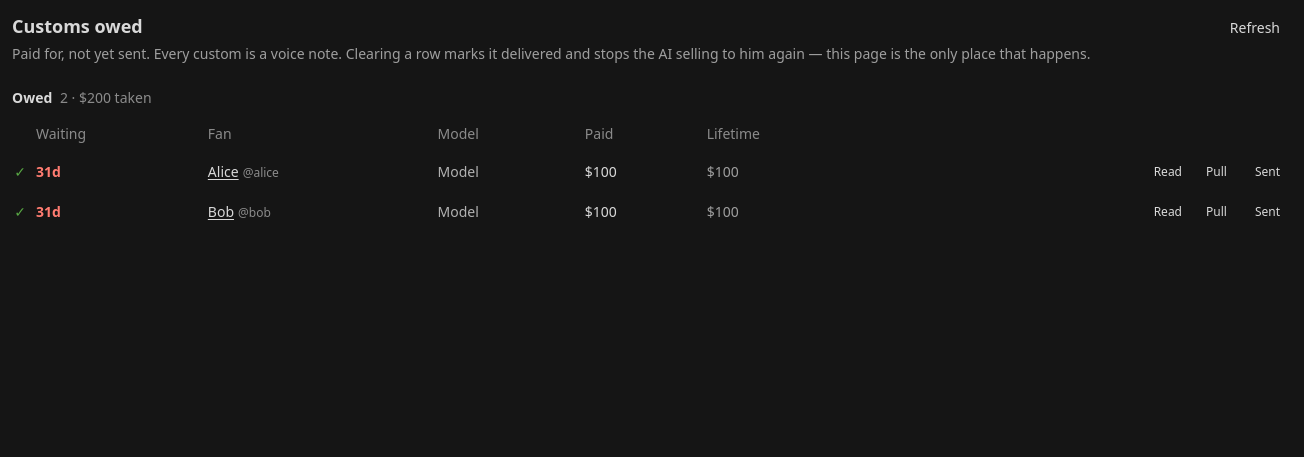
Scenario: CustomsTab pane › Pull A, Read B during the rescrape: A does not reopen over B, no brief for A
Click the 1st button titled "Re-fetch this chat from OnlyFans, then re-read it".
click(1216, 172)  # box [1198,160,1235,184]
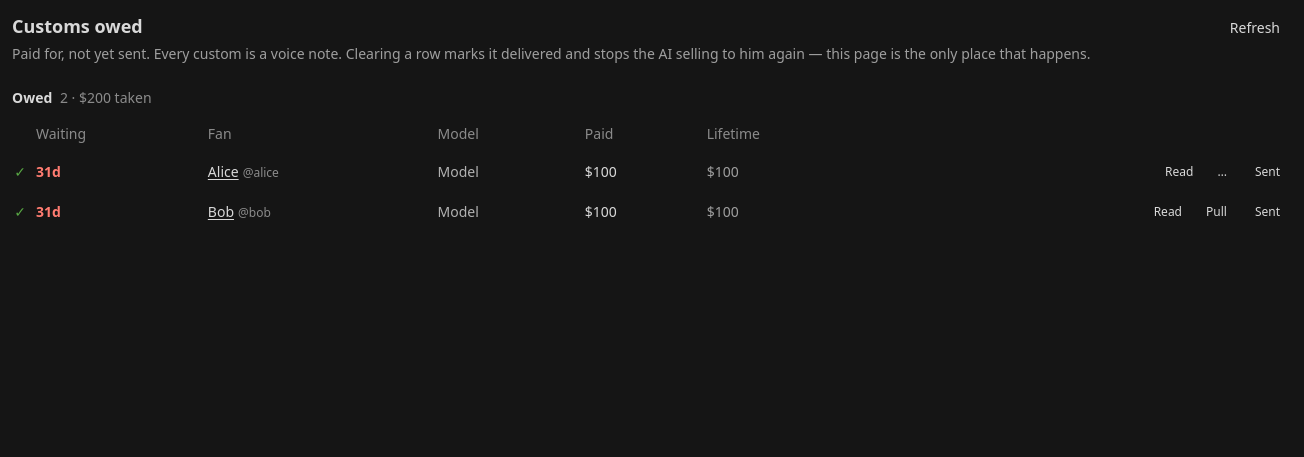
Click the 2nd button titled "Read the conversation around this tip".
click(1168, 212)  # box [1146,200,1190,224]
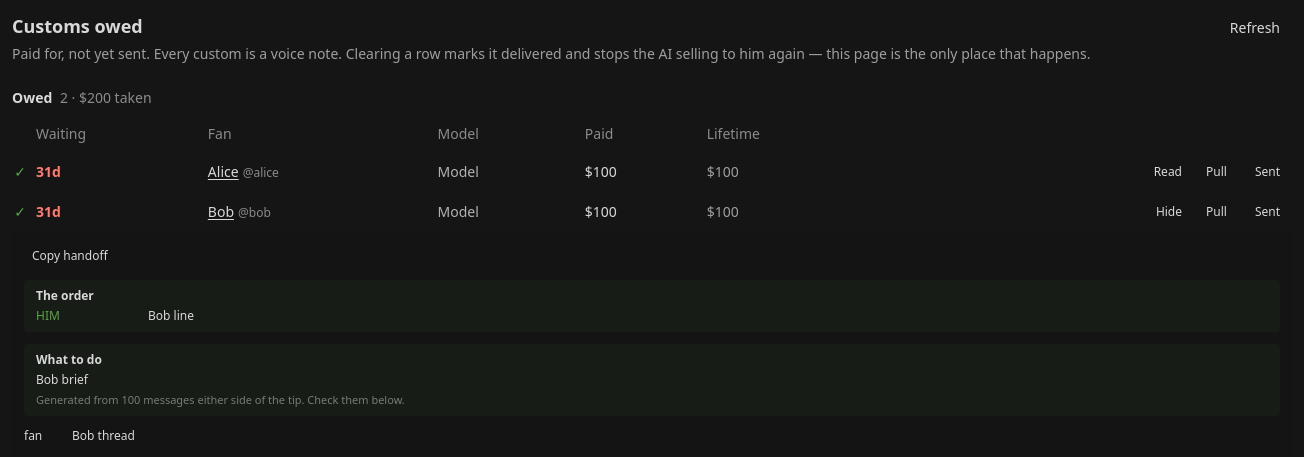
Result: the 1st button titled "Re-fetch this chat from OnlyFans, then re-read it" reads "Pull" at [1198,160,1235,184]
Result: the text "Bob brief" is shown at [36,371,88,388]
